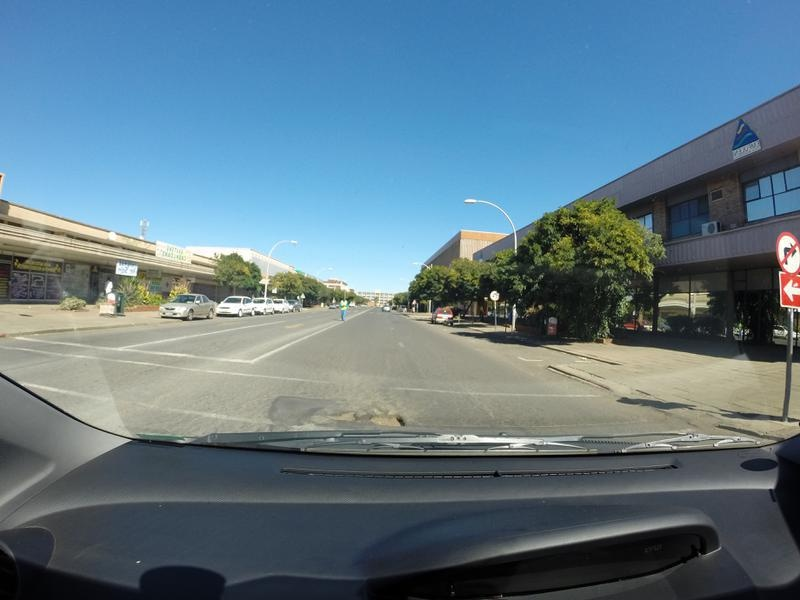pothole: (367, 406, 401, 426), (322, 404, 351, 421)
